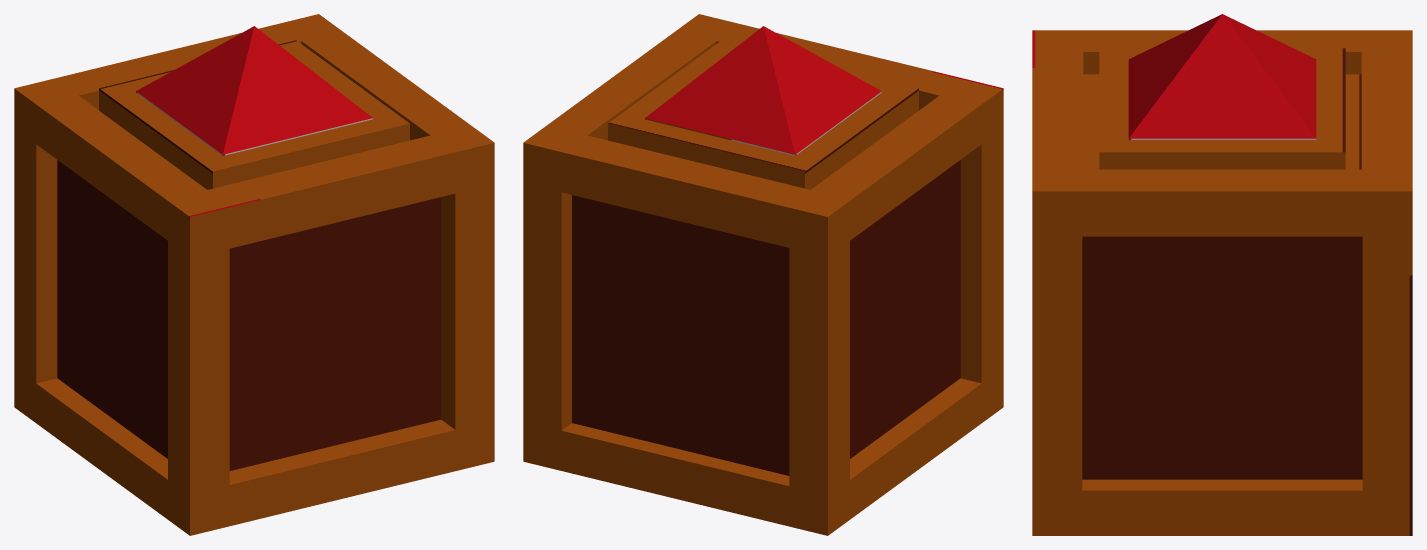
File: CajitaItemPintada.fbx
3 views of the same model, side by side, from view 1: azimuth 30°, elevation 25°; view 2: azimuth 150°, elevation 25°; view 3: azimuth 270°, elevation 25° (orthographic). The views are drawn at different scales.
Parts seen in each view (by area): view 1: Cube; view 2: Cube; view 3: Cube.
Boxes of the visible parts, <box> form: Cube: <box>14,14,494,535</box>; Cube: <box>523,14,1003,535</box>; Cube: <box>1032,14,1412,535</box>.
Size of the model in its own units: 200 by 256 by 200.
Materials: 1 (1 with a texture image).
